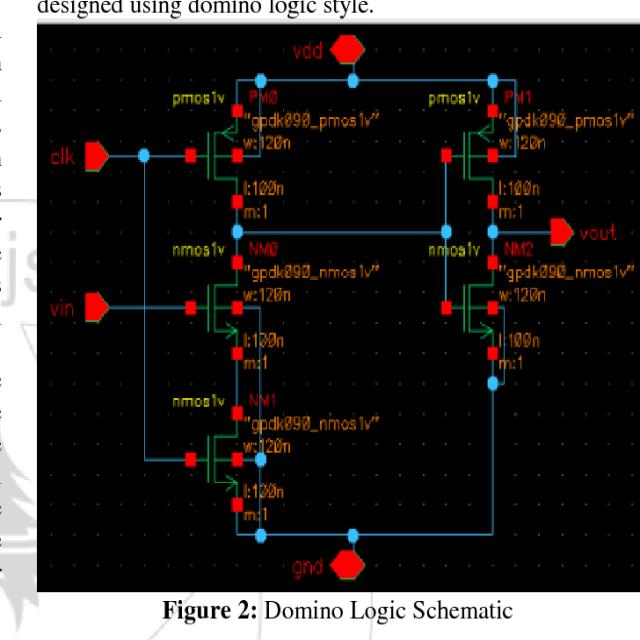nmos: (169, 393, 246, 515), (170, 239, 244, 362), (426, 242, 500, 364)
pmos: (170, 90, 247, 210), (425, 90, 502, 210)
